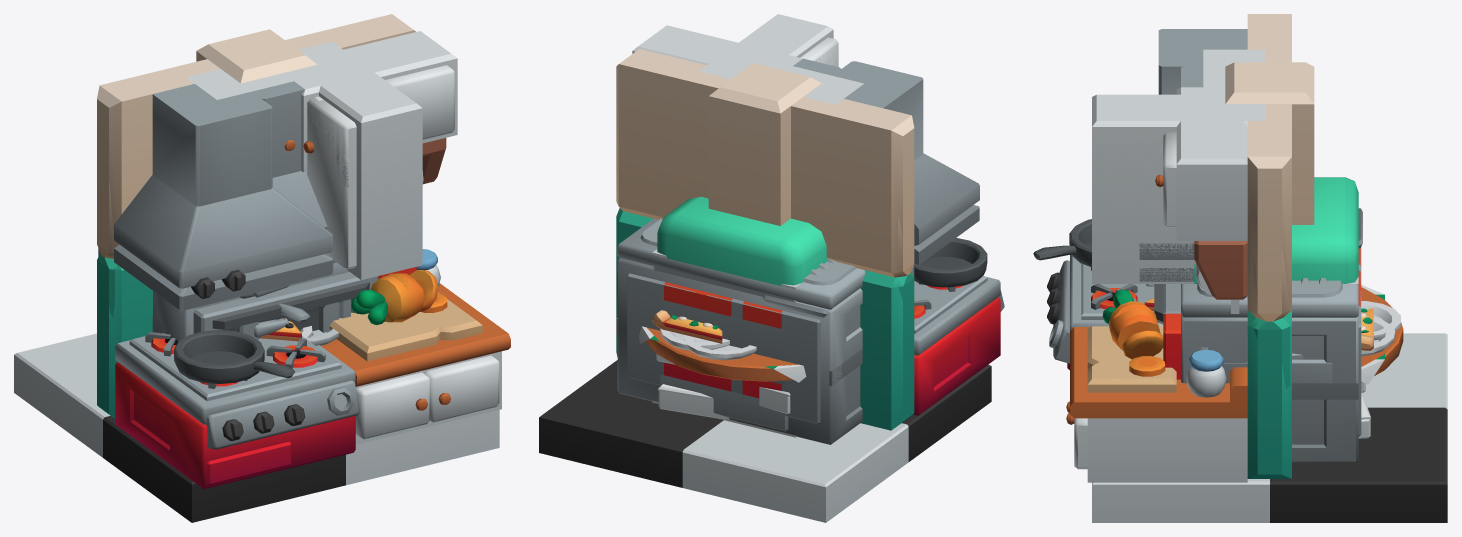
Rendered from diner.glb.
The picture shows the model from 3 angles, left to right: view 1: azimuth 30°, elevation 25°; view 2: azimuth 150°, elevation 25°; view 3: azimuth 270°, elevation 25°; orthographic projection. The views are drawn at different scales.
Visible parts, largest first — view 1: wall_decorated, floor_kitchen, kitchencabinet_corner, kitchencabinet_corner_half, pizza_oven, extractorhood, pillar_B, oven, kitchencabinet_half, wall_orderwindow, table_round_B_tablecloth_red_decorated; view 2: wall_decorated, floor_kitchen, wall, pizza_oven, pillar_B, fridge_A, wall_doorway, icecream_machine, kitchencabinet_corner_half, table_round_A_decorated, oven, table_round_B_tablecloth_red_decorated (+8 smaller); view 3: wall_decorated, floor_kitchen, pizza_oven, kitchencabinet_corner, kitchencabinet_corner_half, wall_half, pillar_B, fridge_A, wall, kitchentable_A_large_decorated_C, extractorhood, table_round_A_decorated (+7 smaller).
Boxes of the visible parts, box(x1,y1,x2,y2) form: wall_decorated: box(97, 14, 510, 489); floor_kitchen: box(14, 333, 499, 522); kitchencabinet_corner: box(307, 92, 422, 280); kitchencabinet_corner_half: box(186, 41, 422, 199); pizza_oven: box(98, 248, 416, 341); extractorhood: box(252, 81, 336, 263); pillar_B: box(196, 29, 316, 83); oven: box(235, 272, 377, 340); kitchencabinet_half: box(197, 49, 362, 150); wall_orderwindow: box(97, 108, 116, 317); table_round_B_tablecloth_red_decorated: box(260, 318, 312, 341); wall_decorated: box(616, 25, 1004, 430); floor_kitchen: box(539, 360, 991, 522); wall: box(618, 64, 891, 430); pizza_oven: box(617, 218, 914, 444); pillar_B: box(708, 63, 821, 225); fridge_A: box(657, 196, 827, 285); wall_doorway: box(618, 65, 891, 430); icecream_machine: box(654, 266, 793, 431); kitchencabinet_corner_half: box(701, 14, 863, 104); table_round_A_decorated: box(645, 327, 797, 380); oven: box(664, 282, 782, 397); table_round_B_tablecloth_red_decorated: box(639, 310, 806, 382); wall_decorated: box(1033, 14, 1291, 482); floor_kitchen: box(1092, 333, 1447, 522); pizza_oven: box(1154, 247, 1361, 462); kitchencabinet_corner: box(1092, 127, 1195, 283); kitchencabinet_corner_half: box(1092, 49, 1265, 202); wall_half: box(1250, 157, 1291, 478); pillar_B: box(1225, 62, 1314, 224); fridge_A: box(1194, 177, 1358, 283); wall: box(1265, 168, 1281, 467); kitchentable_A_large_decorated_C: box(1222, 208, 1362, 399); extractorhood: box(1139, 66, 1203, 281); table_round_A_decorated: box(1158, 287, 1403, 374).
Bounding box in the file's own units: 4.01 × 5.01 × 4.66.
1 material, 1 textured.
